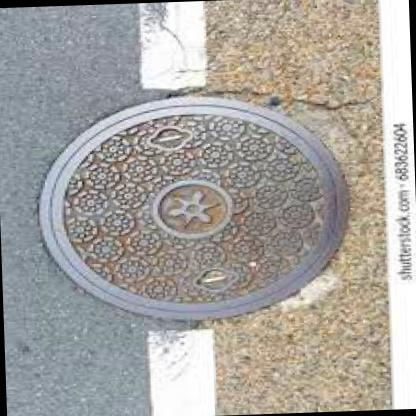manholes: (15, 47, 398, 372)
